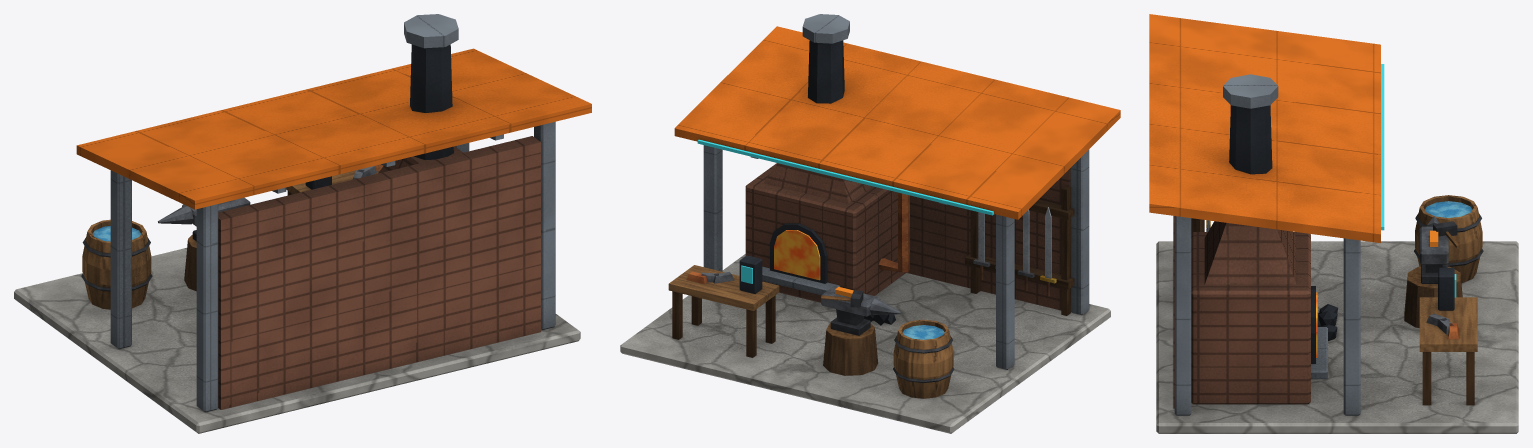
Rendered from forja_humana.fbx.
3 renders of one model, left to right at view 1: azimuth 30°, elevation 25°; view 2: azimuth 150°, elevation 25°; view 3: azimuth 270°, elevation 25°, orthographic. The views are drawn at different scales.
Visible parts, largest first — view 1: forja_humana; view 2: forja_humana, forja_humana_neon; view 3: forja_humana, forja_humana_neon.
Part boxes in pixels (left/top/right/bottom): forja_humana: left=14, top=14, right=591, bottom=433; forja_humana: left=620, top=14, right=1120, bottom=433; forja_humana_neon: left=697, top=139, right=993, bottom=283; forja_humana: left=1149, top=14, right=1518, bottom=433; forja_humana_neon: left=1381, top=64, right=1456, bottom=297.
Size of the model in its own units: 18.6 by 13.7 by 15.3.
2 materials, 2 textured.
